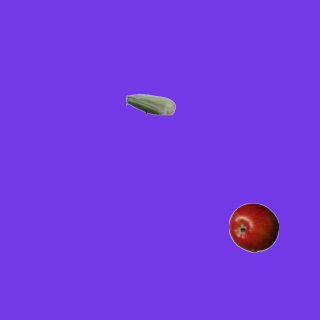Apple Braeburn: (228, 202, 278, 252)
Corn Husk: (125, 79, 175, 129)
